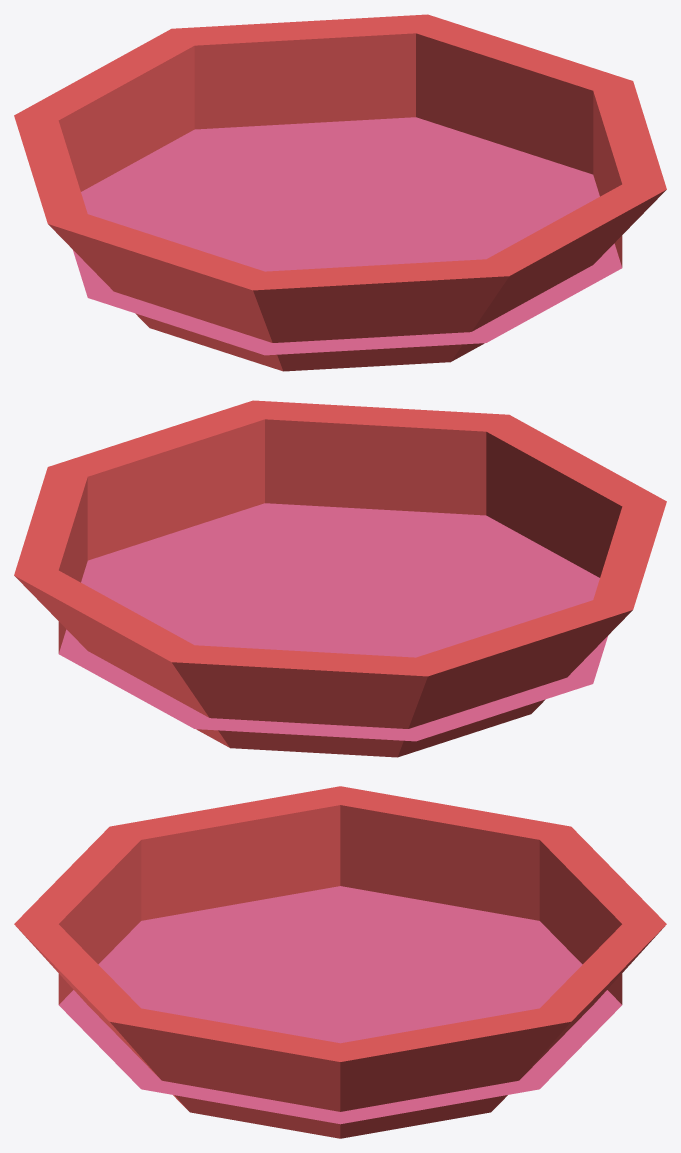
Rendered from dish.glb.
3 renders of one model, top to bottom at view 1: azimuth 30°, elevation 25°; view 2: azimuth 150°, elevation 25°; view 3: azimuth 270°, elevation 25°, orthographic. The views are drawn at different scales.
Parts seen in each view (by area): view 1: Dish; view 2: Dish; view 3: Dish.
Boxes of the visible parts, x1,y1,x2,y2 form: Dish: [14, 14, 666, 371]; Dish: [14, 400, 666, 757]; Dish: [14, 786, 666, 1138].
Size of the model in its own units: 1.9 by 0.4 by 1.9.
